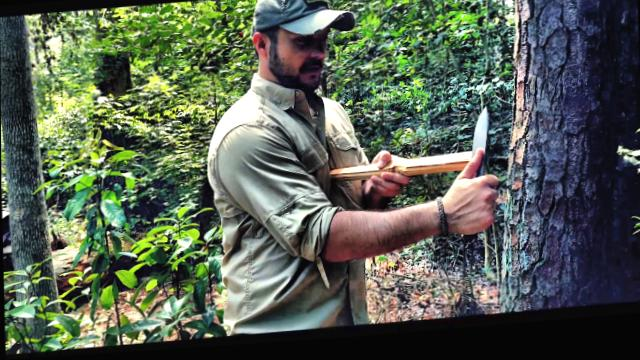knife: (457, 105, 503, 223)
